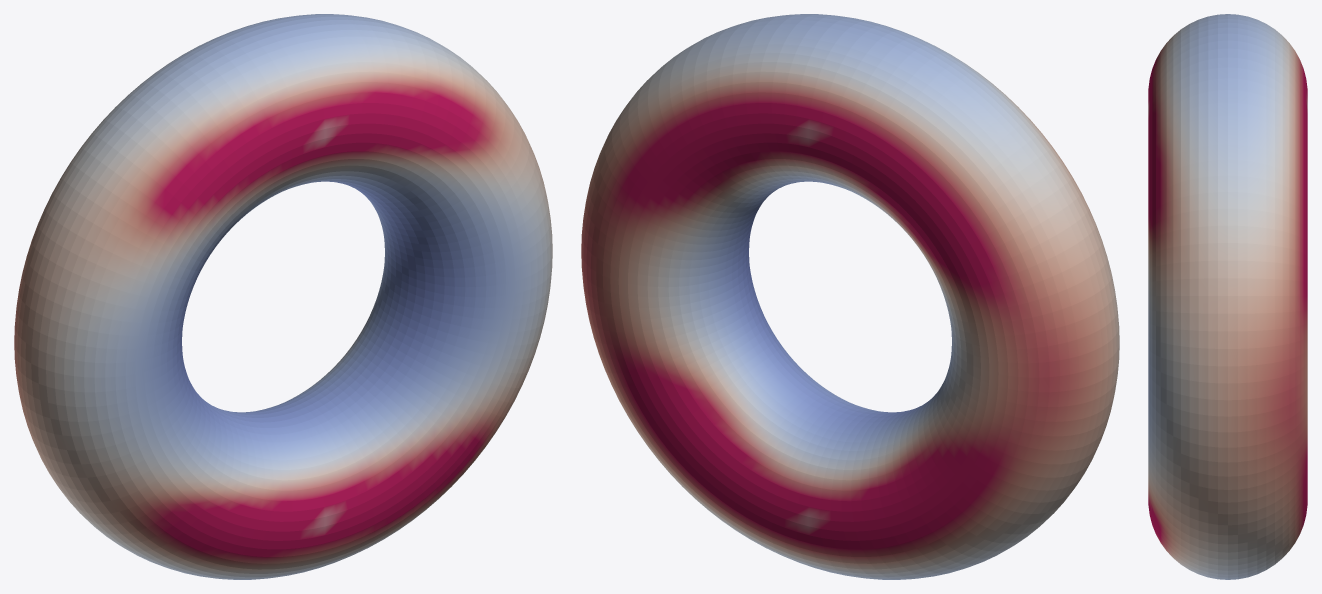
3 views of the same model, side by side, from view 1: azimuth 30°, elevation 25°; view 2: azimuth 150°, elevation 25°; view 3: azimuth 270°, elevation 25° (orthographic). The views are drawn at different scales.
Visible parts, largest first — view 1: world; view 2: world; view 3: world.
Part boxes in pixels (x1,y1,x2,y2): world: [14, 14, 552, 579]; world: [581, 14, 1119, 579]; world: [1148, 14, 1307, 579].
Bounding box in the file's own units: 23.2 × 23.2 × 6.52.
